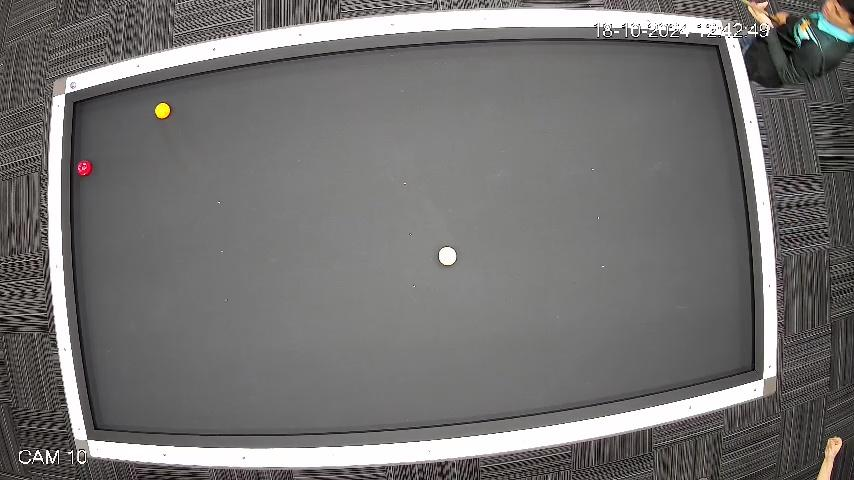Red: (76, 160, 92, 177)
White: (437, 246, 458, 266)
Yellow: (154, 102, 172, 119)
